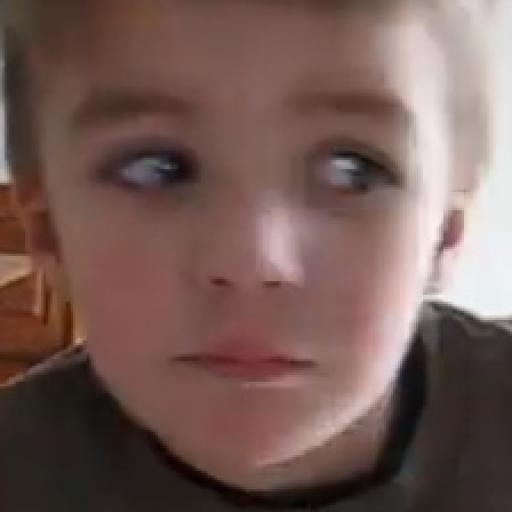Autism: (18, 16, 472, 486)
